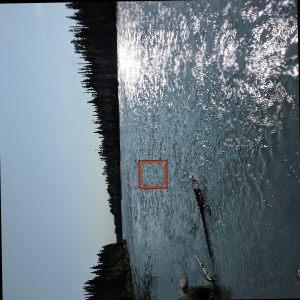square: (135, 157, 170, 191)
